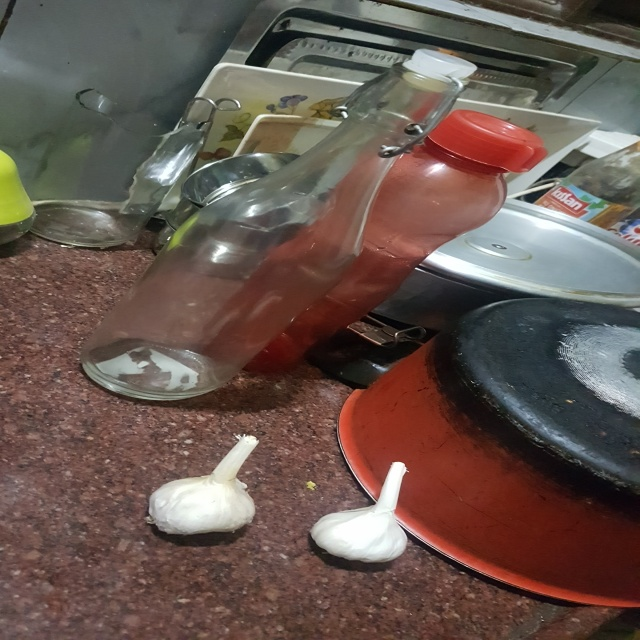garlic: (147, 431, 267, 541), (310, 457, 413, 560)
